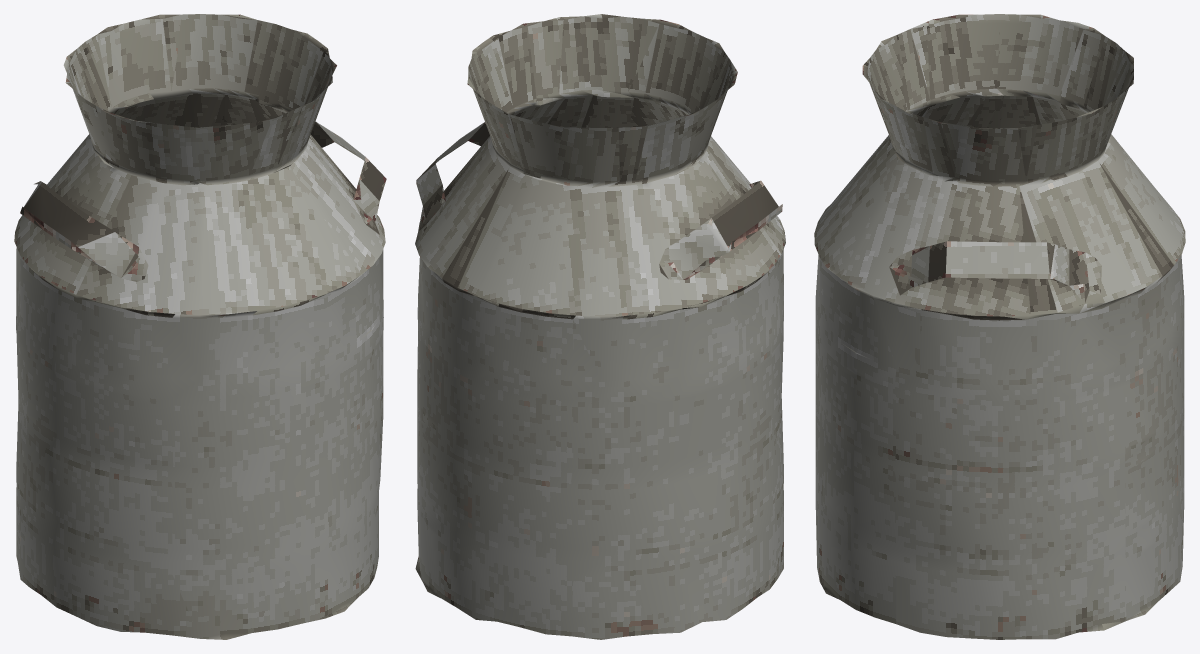
Rendered from metal_jug.glb.
3 views of the same model, side by side, from view 1: azimuth 30°, elevation 25°; view 2: azimuth 150°, elevation 25°; view 3: azimuth 270°, elevation 25° (orthographic).
Parts seen in each view (by area): view 1: body; view 2: body; view 3: body.
Boxes of the visible parts, x1,y1,x2,y2 form: body: (14, 14, 386, 639); body: (415, 14, 785, 639); body: (814, 14, 1185, 639).
Size of the model in its own units: 0.1967 by 0.2875 by 0.1956.
1 material, 1 textured.
